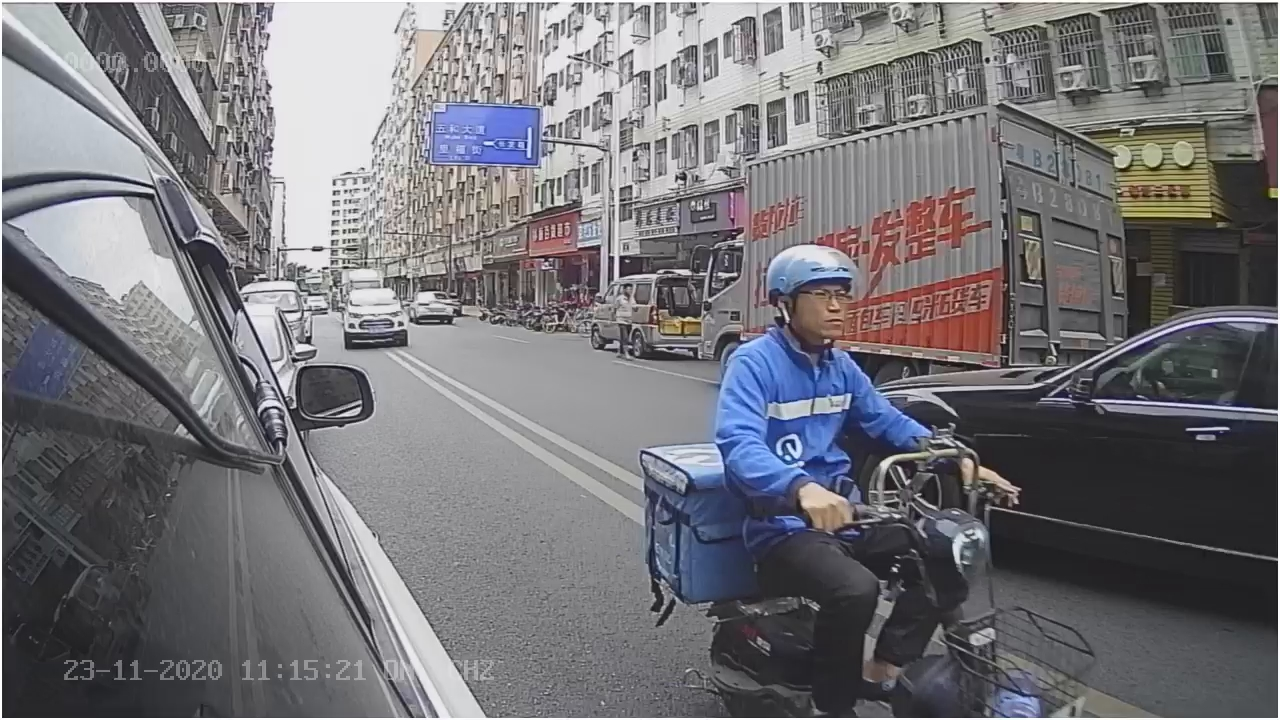person: (697, 233, 965, 438)
